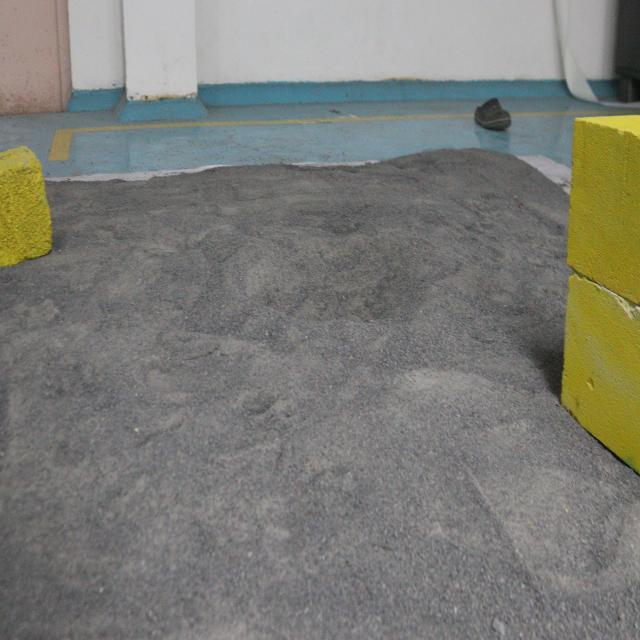box: (562, 114, 640, 511), (0, 148, 53, 280)
